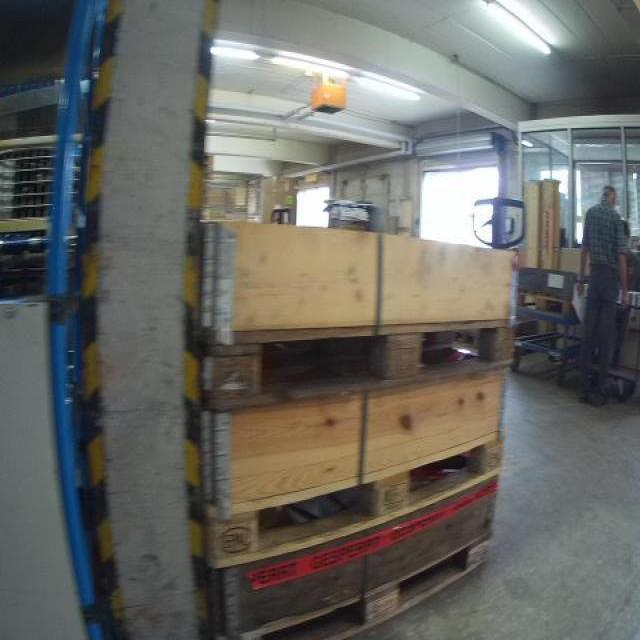pallet: (207, 429, 501, 569), (211, 531, 489, 639), (202, 318, 516, 410)
pallet_truck: (472, 193, 526, 248)
stillage: (1, 133, 87, 238)
